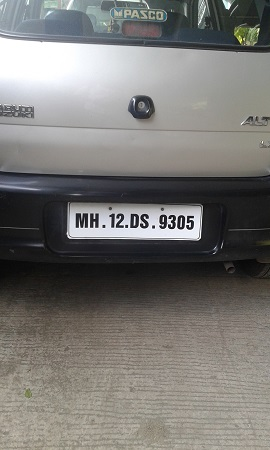licenseplate: (66, 200, 205, 244)
